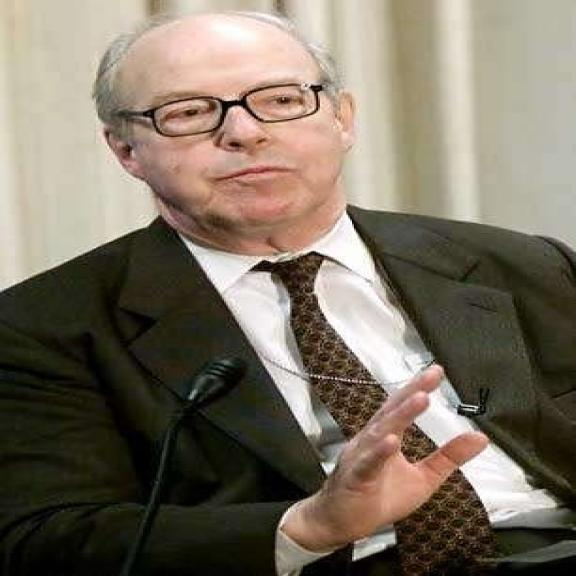face: (95, 28, 378, 234)
